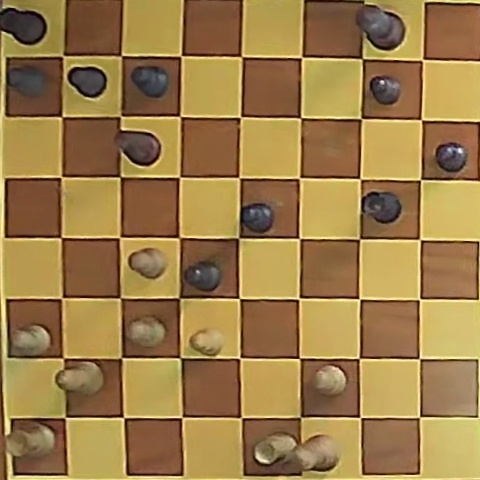black-king: (355, 4, 405, 50)
black-knight: (116, 131, 160, 166)
black-pawn: (68, 66, 107, 98), (7, 66, 47, 97), (131, 65, 168, 98), (184, 261, 221, 291), (435, 142, 467, 172), (241, 203, 273, 232), (370, 76, 401, 105)
black-rook: (0, 7, 46, 46), (362, 191, 401, 224)
white-bishop: (57, 361, 103, 395)
white-king: (296, 435, 340, 471)
white-pawn: (11, 324, 51, 356), (126, 316, 166, 348), (129, 248, 166, 278), (314, 365, 347, 395), (189, 328, 224, 355)
white-rook: (7, 422, 56, 458), (254, 432, 297, 466)
